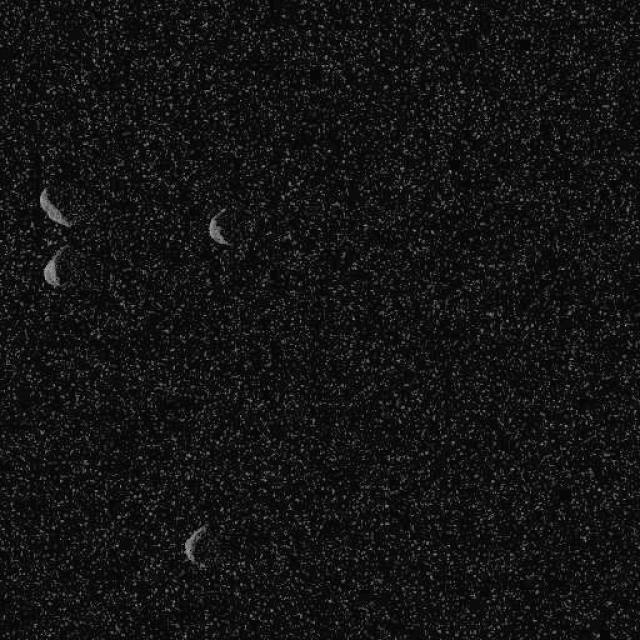D2: (38, 185, 72, 227), (41, 242, 69, 288), (182, 522, 208, 568), (206, 205, 232, 246)
